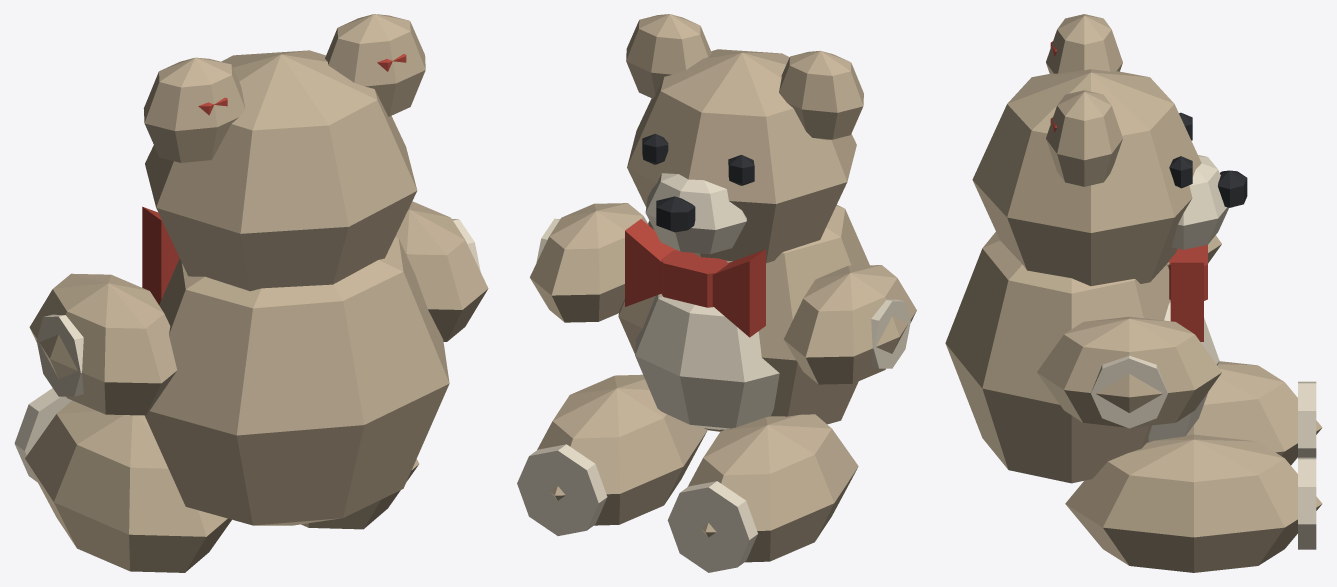
File: SM_LPI_Kids_Teddy_01.fbx
3 views of the same model, side by side, from view 1: azimuth 30°, elevation 25°; view 2: azimuth 150°, elevation 25°; view 3: azimuth 270°, elevation 25° (orthographic). The views are drawn at different scales.
Visible parts, largest first — view 1: SM_LPI_Kids_Teddy_01; view 2: SM_LPI_Kids_Teddy_01; view 3: SM_LPI_Kids_Teddy_01.
Part boxes in pixels (left/top/right/bottom): SM_LPI_Kids_Teddy_01: left=14, top=14, right=488, bottom=572; SM_LPI_Kids_Teddy_01: left=517, top=14, right=916, bottom=572; SM_LPI_Kids_Teddy_01: left=945, top=14, right=1322, bottom=572.
Size of the model in its own units: 0.3473 by 0.432 by 0.3102.
